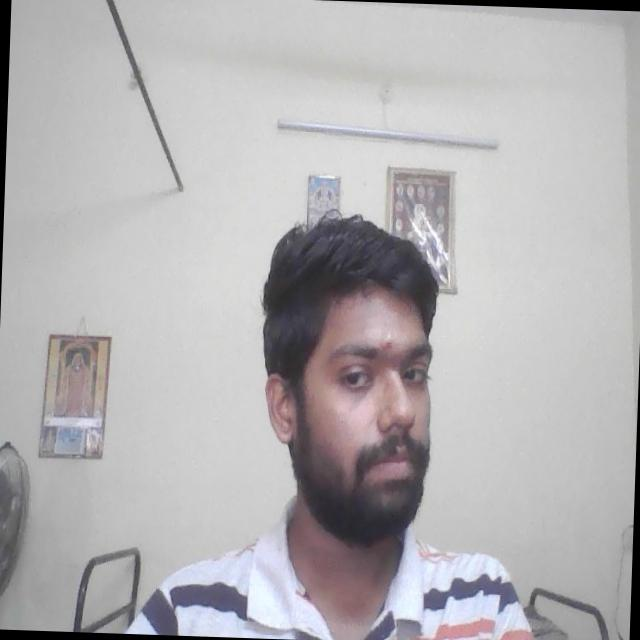Focused: (278, 297, 433, 514)
